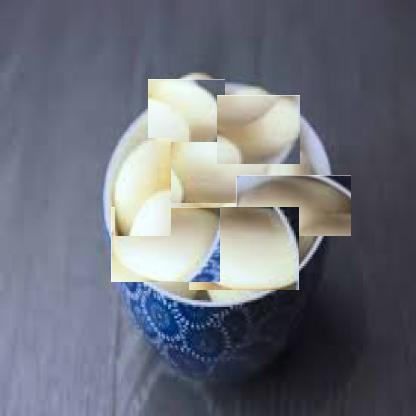rasgulla: (196, 200, 293, 296), (168, 114, 262, 208), (119, 198, 212, 291), (250, 162, 338, 249), (220, 92, 297, 168), (115, 138, 171, 236), (151, 76, 222, 146)
